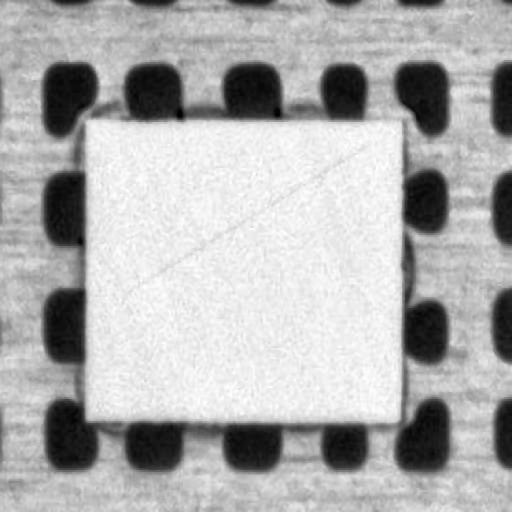DIE_CRACK: (168, 107, 488, 218)
